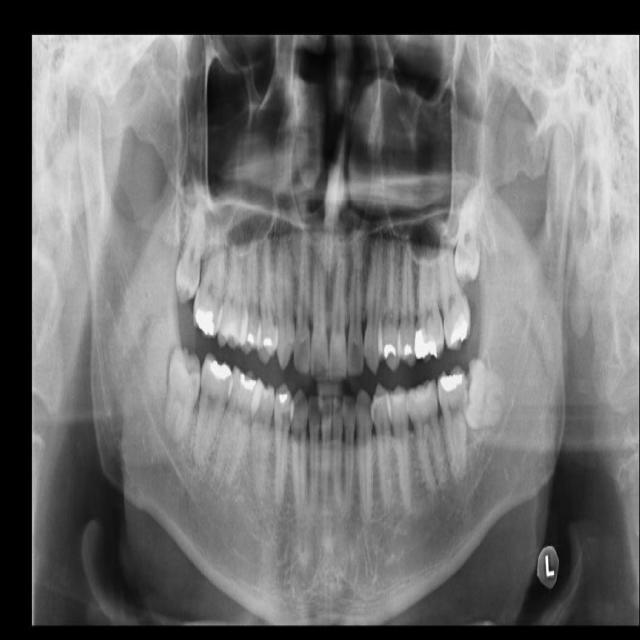Filling: (412, 328, 439, 359), (193, 305, 216, 335), (449, 315, 469, 348), (408, 384, 430, 406), (207, 360, 232, 379), (438, 372, 462, 391), (237, 374, 258, 392), (382, 343, 398, 363), (401, 343, 415, 364), (276, 388, 292, 406), (260, 336, 276, 353), (245, 332, 258, 349)
impacted tooth: (163, 348, 203, 444), (466, 358, 514, 430), (455, 176, 483, 283), (176, 199, 203, 301)
